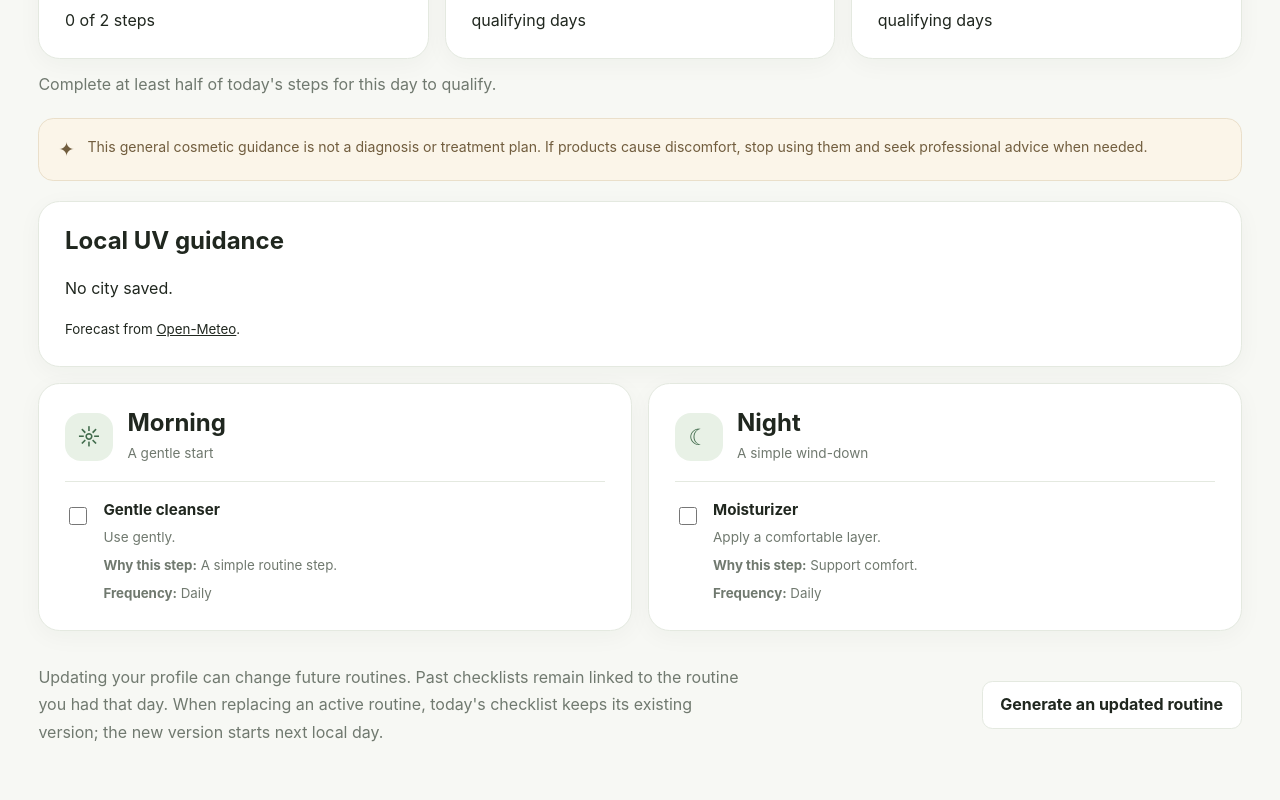
Test: RoutinePage checklist › saves a checked step and reflects the server completion percentage
(page scrolled)
Click the checkbox named "Mark Gentle cleanser complete" next to "Gentle cleanser".
click(78, 516)  # box 69,507 -> 87,525
(page scrolled)
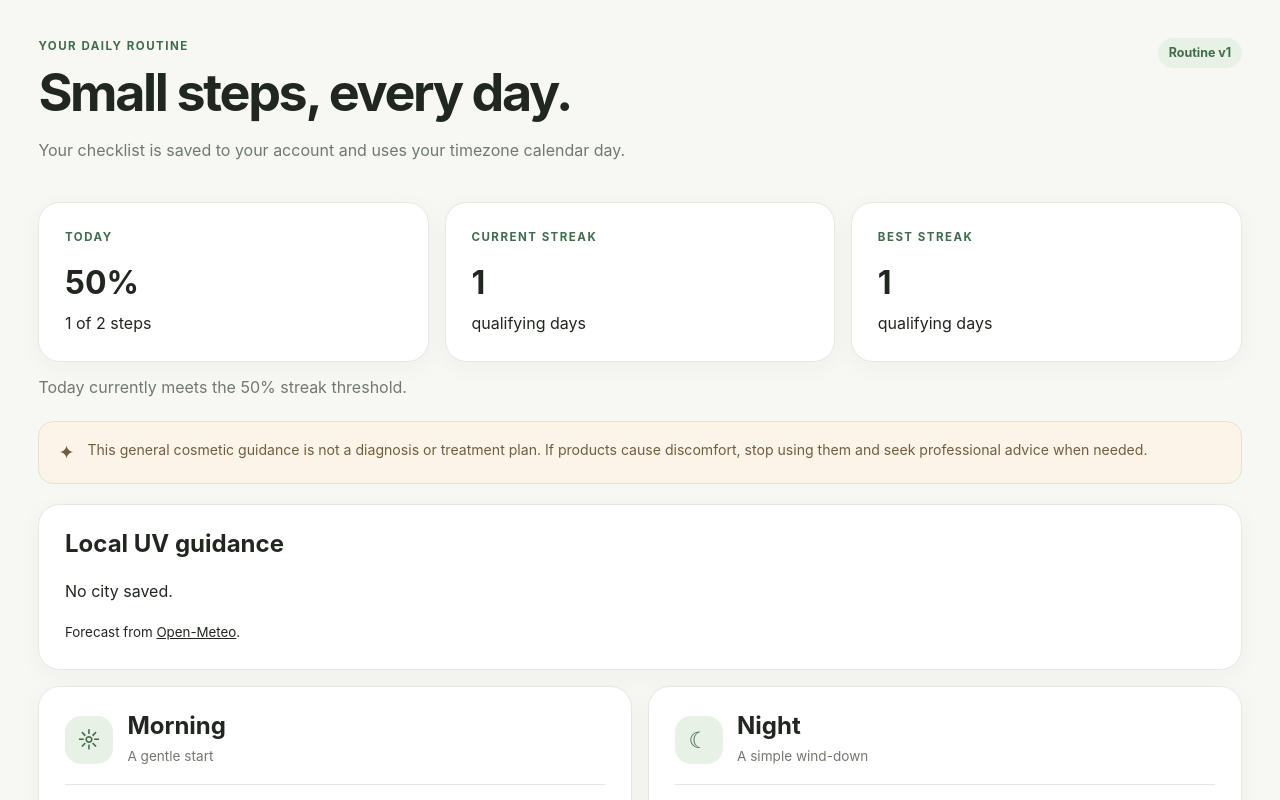
Check: the text "50%" is shown, box 65,263 -> 139,302
